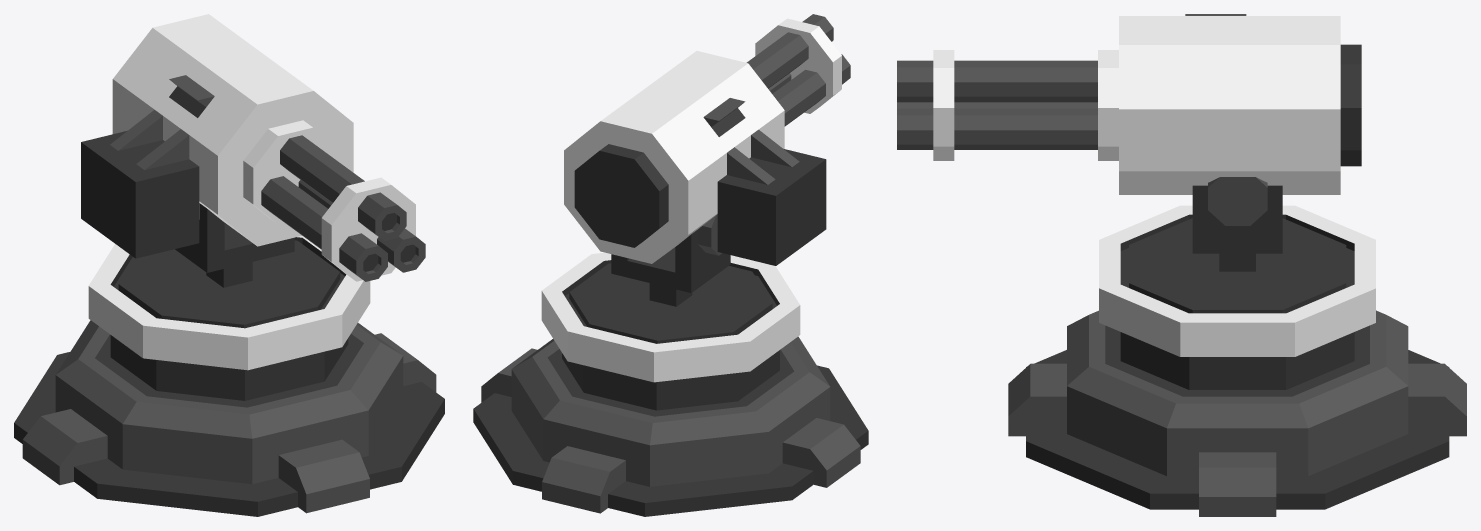
File: Minigun_1.fbx
3 views of the same model, side by side, from view 1: azimuth 30°, elevation 25°; view 2: azimuth 150°, elevation 25°; view 3: azimuth 270°, elevation 25° (orthographic). The views are drawn at different scales.
Visible parts, largest first — view 1: Base_Mesh, Body_Mesh, Upper_Mesh, Gun_Mesh; view 2: Base_Mesh, Body_Mesh, Upper_Mesh, Gun_Mesh; view 3: Base_Mesh, Body_Mesh, Upper_Mesh, Gun_Mesh.
Boxes of the visible parts, bbox=[...] form: Base_Mesh: bbox=[14, 320, 444, 516]; Body_Mesh: bbox=[81, 14, 353, 258]; Upper_Mesh: bbox=[88, 203, 370, 400]; Gun_Mesh: bbox=[243, 120, 425, 281]; Base_Mesh: bbox=[473, 336, 868, 516]; Body_Mesh: bbox=[564, 51, 826, 265]; Upper_Mesh: bbox=[541, 229, 800, 410]; Gun_Mesh: bbox=[746, 14, 850, 126]; Base_Mesh: bbox=[1008, 310, 1466, 516]; Body_Mesh: bbox=[1119, 14, 1361, 225]; Upper_Mesh: bbox=[1099, 185, 1375, 389]; Gun_Mesh: bbox=[897, 50, 1118, 160].
Size of the model in its own units: 1.3 by 1.22 by 1.62.
